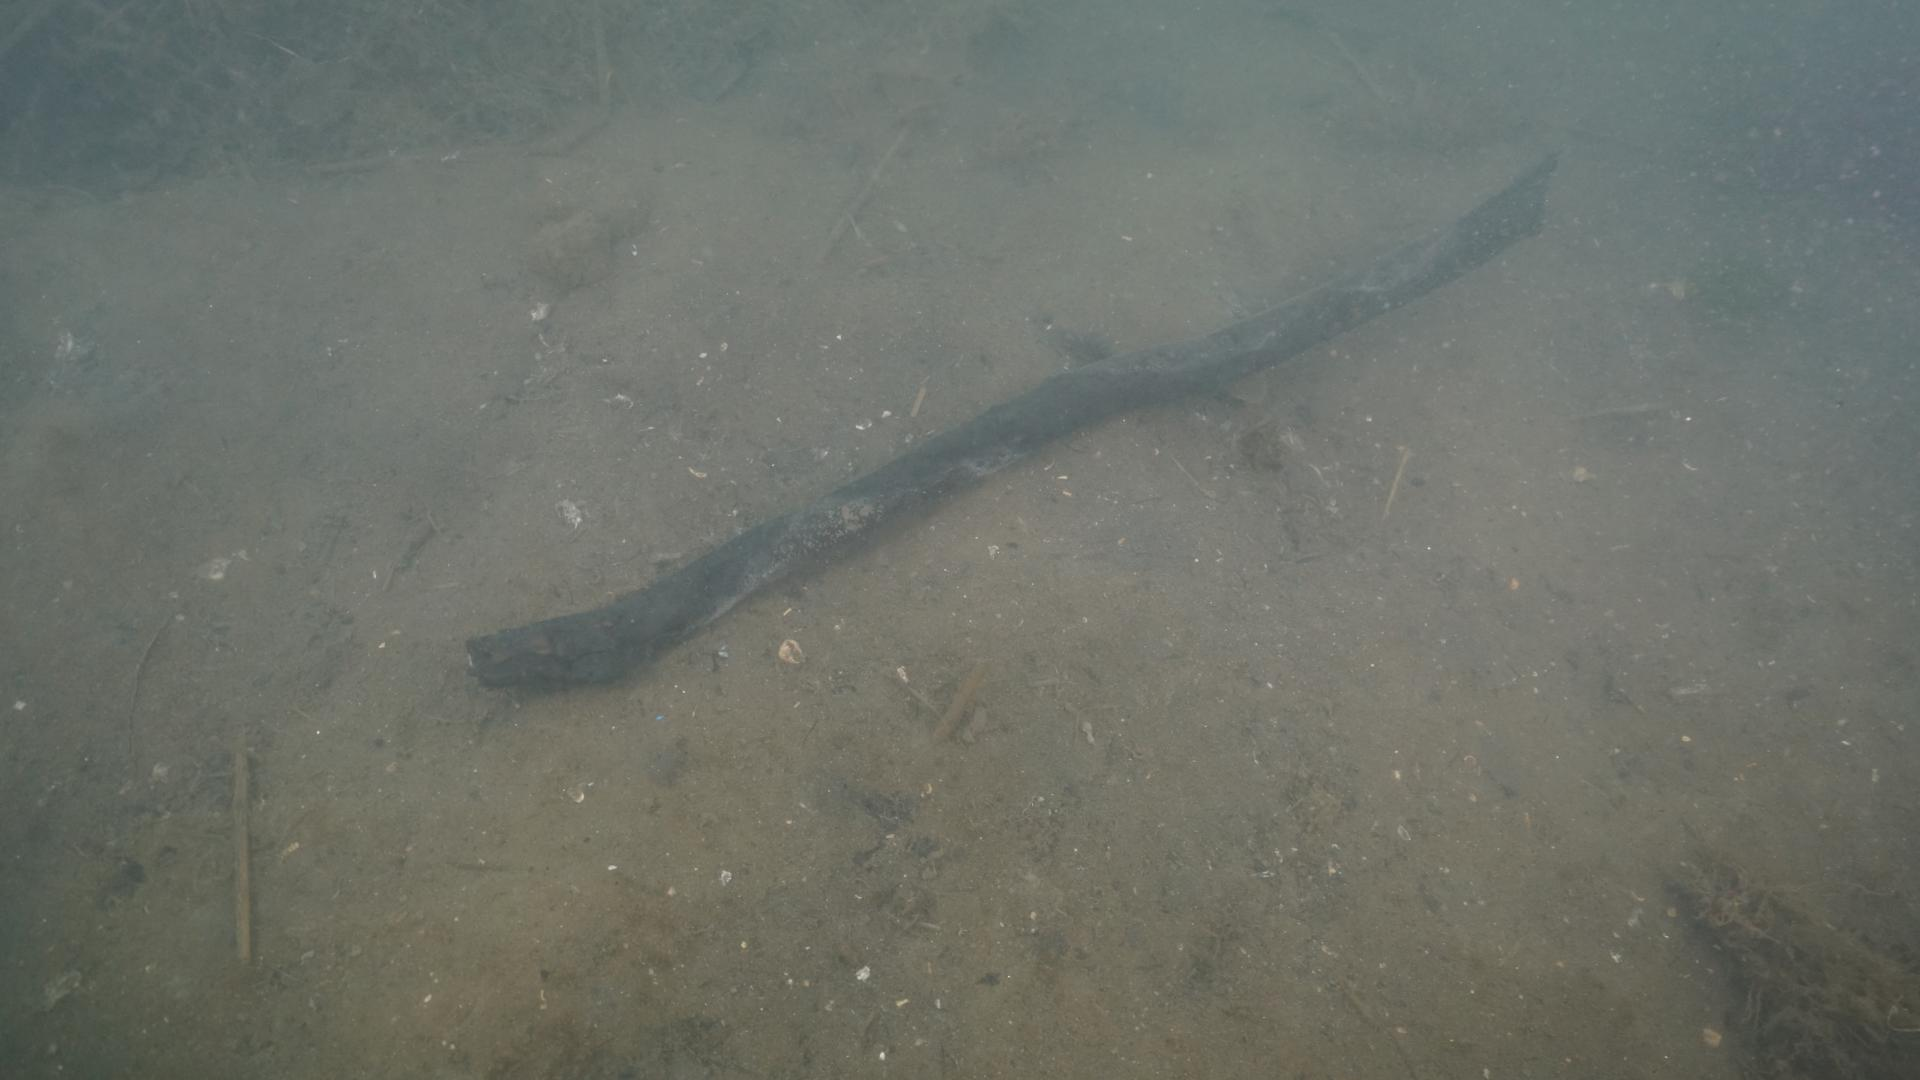wood: (450, 148, 1563, 688)
